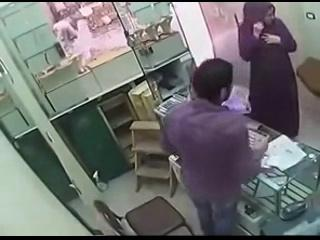Normal: (160, 57, 264, 234), (238, 2, 300, 140), (93, 196, 195, 236)
